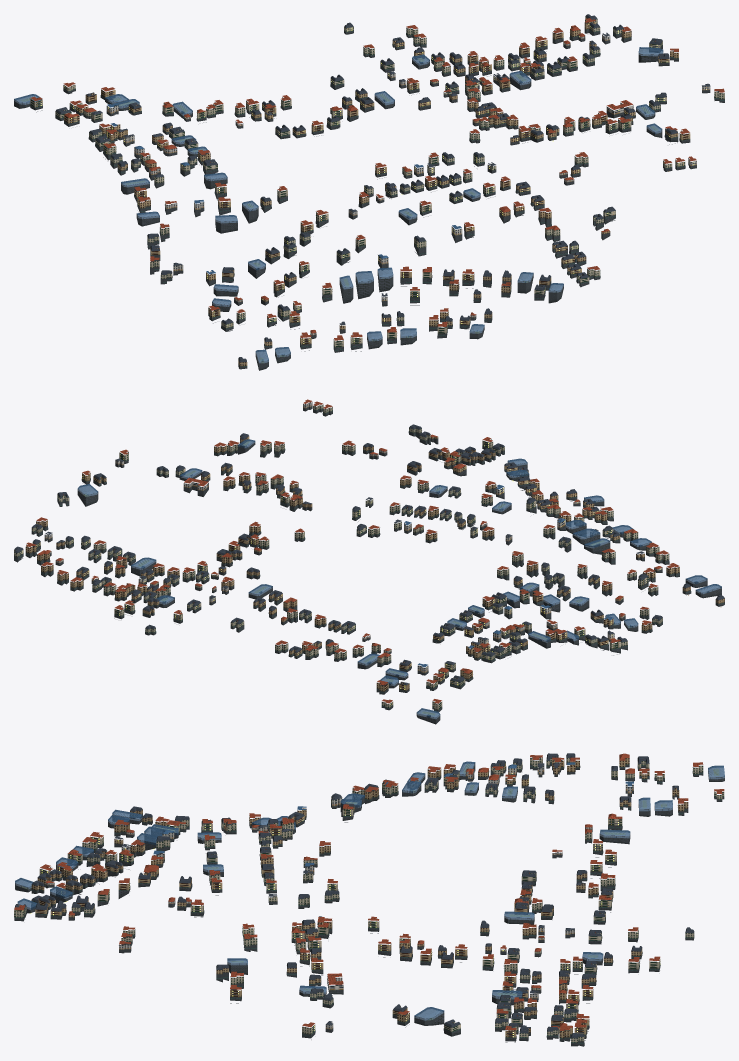
File: osm_buildings_T_E02_N00_Q1.glb
The picture shows the model from 3 angles, top to bottom: view 1: azimuth 30°, elevation 25°; view 2: azimuth 150°, elevation 25°; view 3: azimuth 270°, elevation 25°; orthographic projection. The views are drawn at different scales.
Parts seen in each view (by area): view 1: OSM_T_E02_N00_Q1_foundation, OSM_T_E02_N00_Q1_wall_cream_stucco, OSM_T_E02_N00_Q1_wall_french_ochre, OSM_T_E02_N00_Q1_roof_terracotta, OSM_T_E02_N00_Q1_greenhouse_blend, OSM_T_E02_N00_Q1_roof_mansard_slate, OSM_T_E02_N00_Q1_roof_mansard_deck, OSM_T_E02_N00_Q1_roof_mint_metal, OSM_T_E02_N00_Q1_balcony_railing, OSM_T_E02_N00_Q1_trim_cornice, OSM_T_E02_N00_Q1_wall_pastel_sand, OSM_T_E02_N00_Q1_window_emissive_warm (+1 smaller); view 2: OSM_T_E02_N00_Q1_foundation, OSM_T_E02_N00_Q1_wall_cream_stucco, OSM_T_E02_N00_Q1_wall_french_ochre, OSM_T_E02_N00_Q1_roof_terracotta, OSM_T_E02_N00_Q1_greenhouse_blend, OSM_T_E02_N00_Q1_roof_mansard_slate, OSM_T_E02_N00_Q1_roof_mansard_deck, OSM_T_E02_N00_Q1_roof_mint_metal, OSM_T_E02_N00_Q1_balcony_railing, OSM_T_E02_N00_Q1_wall_pastel_sand, OSM_T_E02_N00_Q1_trim_cornice, OSM_T_E02_N00_Q1_wall_warm_white; view 3: OSM_T_E02_N00_Q1_foundation, OSM_T_E02_N00_Q1_wall_cream_stucco, OSM_T_E02_N00_Q1_wall_french_ochre, OSM_T_E02_N00_Q1_roof_terracotta, OSM_T_E02_N00_Q1_greenhouse_blend, OSM_T_E02_N00_Q1_roof_mansard_slate, OSM_T_E02_N00_Q1_roof_mansard_deck, OSM_T_E02_N00_Q1_trim_cornice, OSM_T_E02_N00_Q1_roof_mint_metal, OSM_T_E02_N00_Q1_balcony_railing, OSM_T_E02_N00_Q1_wall_pastel_sand, OSM_T_E02_N00_Q1_window_emissive_warm (+1 smaller).
Boxes of the visible parts, x1,y1,x2,y2 form: OSM_T_E02_N00_Q1_foundation: (14, 22, 724, 370); OSM_T_E02_N00_Q1_wall_cream_stucco: (30, 16, 724, 347); OSM_T_E02_N00_Q1_wall_french_ochre: (64, 20, 690, 366); OSM_T_E02_N00_Q1_roof_terracotta: (31, 18, 724, 340); OSM_T_E02_N00_Q1_greenhouse_blend: (14, 47, 663, 363); OSM_T_E02_N00_Q1_roof_mansard_slate: (56, 15, 710, 362); OSM_T_E02_N00_Q1_roof_mansard_deck: (22, 14, 676, 361); OSM_T_E02_N00_Q1_roof_mint_metal: (30, 23, 724, 366); OSM_T_E02_N00_Q1_balcony_railing: (36, 23, 721, 348); OSM_T_E02_N00_Q1_trim_cornice: (36, 19, 718, 364); OSM_T_E02_N00_Q1_wall_pastel_sand: (106, 34, 696, 317); OSM_T_E02_N00_Q1_window_emissive_warm: (21, 22, 694, 362); OSM_T_E02_N00_Q1_foundation: (14, 406, 724, 724); OSM_T_E02_N00_Q1_wall_cream_stucco: (14, 404, 669, 709); OSM_T_E02_N00_Q1_wall_french_ochre: (25, 436, 724, 691); OSM_T_E02_N00_Q1_roof_terracotta: (26, 399, 679, 703); OSM_T_E02_N00_Q1_greenhouse_blend: (77, 439, 721, 719); OSM_T_E02_N00_Q1_roof_mansard_slate: (14, 426, 724, 685); OSM_T_E02_N00_Q1_roof_mansard_deck: (16, 424, 723, 717); OSM_T_E02_N00_Q1_roof_mint_metal: (16, 408, 723, 710); OSM_T_E02_N00_Q1_balcony_railing: (19, 402, 723, 709); OSM_T_E02_N00_Q1_wall_pastel_sand: (44, 402, 625, 673); OSM_T_E02_N00_Q1_trim_cornice: (17, 407, 716, 707); OSM_T_E02_N00_Q1_wall_warm_white: (50, 450, 662, 652); OSM_T_E02_N00_Q1_foundation: (14, 762, 724, 1046); OSM_T_E02_N00_Q1_wall_cream_stucco: (14, 755, 724, 1042); OSM_T_E02_N00_Q1_wall_french_ochre: (31, 758, 688, 1038); OSM_T_E02_N00_Q1_roof_terracotta: (14, 753, 724, 1030); OSM_T_E02_N00_Q1_greenhouse_blend: (15, 761, 724, 1020); OSM_T_E02_N00_Q1_roof_mansard_slate: (14, 753, 694, 1038); OSM_T_E02_N00_Q1_roof_mansard_deck: (15, 753, 722, 1035); OSM_T_E02_N00_Q1_trim_cornice: (14, 757, 723, 1042); OSM_T_E02_N00_Q1_roof_mint_metal: (15, 763, 723, 1043); OSM_T_E02_N00_Q1_balcony_railing: (24, 757, 692, 1039); OSM_T_E02_N00_Q1_wall_pastel_sand: (45, 765, 633, 1032); OSM_T_E02_N00_Q1_window_emissive_warm: (22, 764, 718, 1034).
Bounding box in the file's own units: 998 × 183 × 979.
16 materials, 16 textured.
